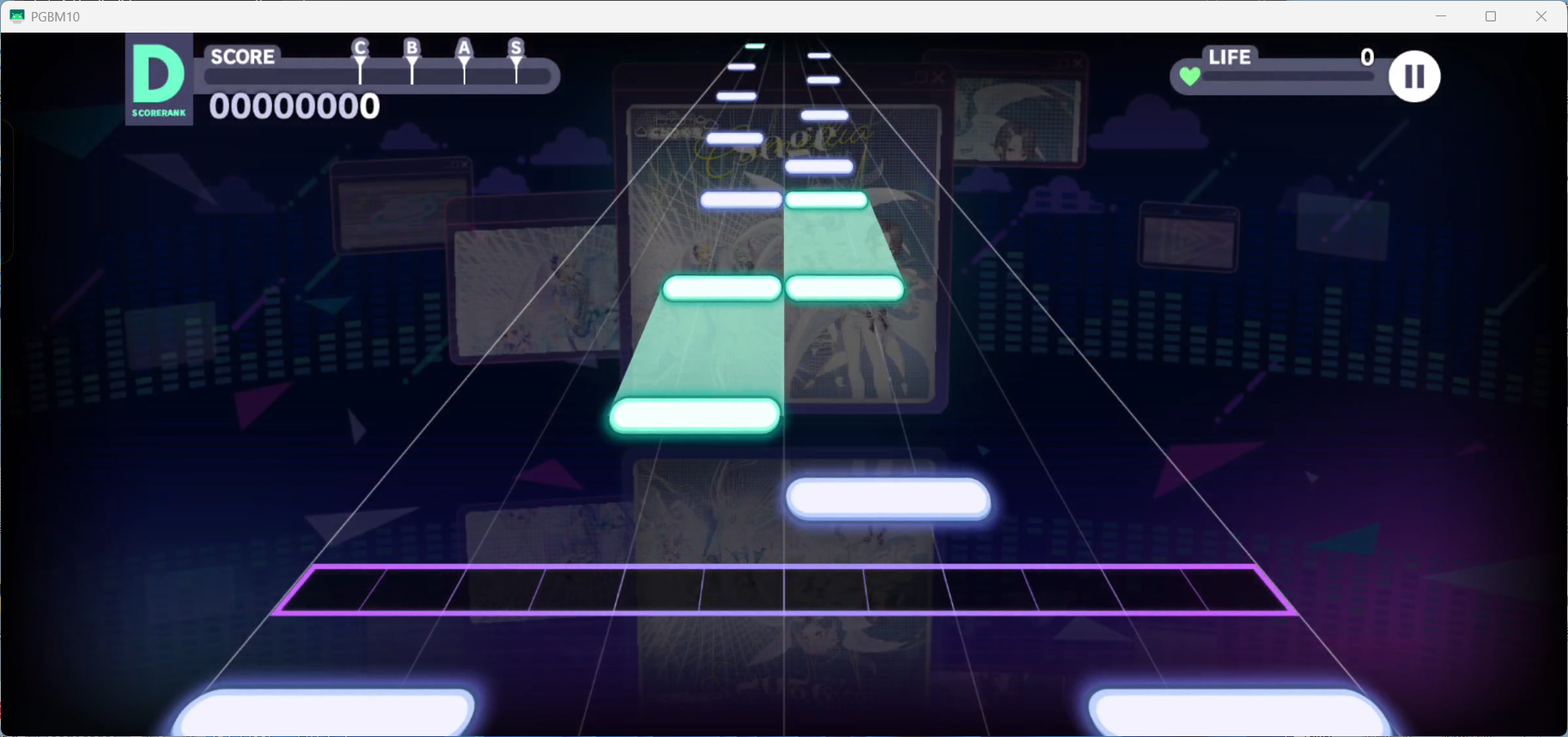hold: (614, 299, 785, 399), (784, 209, 901, 275)
tap: (1088, 688, 1391, 737), (175, 688, 474, 737), (786, 478, 993, 520), (610, 397, 785, 434), (662, 274, 781, 301), (786, 274, 904, 300), (700, 191, 782, 208), (786, 191, 867, 208), (786, 160, 853, 174), (706, 132, 763, 145), (800, 110, 848, 121), (717, 93, 756, 100), (806, 76, 841, 83), (727, 63, 756, 70), (807, 52, 832, 58)
